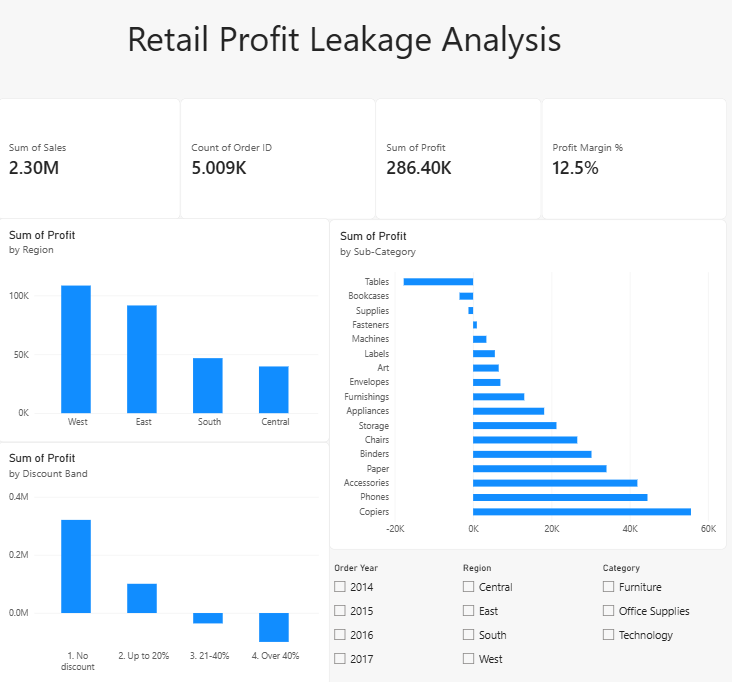

What the dashboard file says about the page in this screenshot:
{"tool":"powerbi","page":{"name":"Page 1","canvas":[1920,1080],"ordinal":0},"visuals":[{"type":"cardVisual","fields":{"Data":["Sum(Sample - Superstore.Sales)"]},"box":[0,158,286,190],"z":0},{"type":"cardVisual","fields":{"Data":["Sum(Sample - Superstore.Profit)"]},"box":[592,158,260,190],"z":1},{"type":"cardVisual","fields":{"Data":["Sample - Superstore.Profit Margin %"]},"box":[852,158,290,190],"z":2},{"type":"cardVisual","fields":{"Data":["Count(Sample - Superstore.Order ID)1"]},"box":[286,158,306,190],"z":3},{"type":"clusteredBarChart","fields":{"Category":["Sample - Superstore.Sub-Category"],"Y":["Sum(Sample - Superstore.Profit)"]},"box":[519.6,349,623.5,517.6],"z":4},{"type":"clusteredColumnChart","fields":{"Category":["Sample - Superstore.Discount Band"],"Y":["Sum(Sample - Superstore.Profit)"]},"box":[0,698,520,382],"z":5},{"type":"clusteredColumnChart","fields":{"Category":["Sample - Superstore.Region"],"Y":["Sum(Sample - Superstore.Profit)"]},"box":[0,347.1,519.6,351],"z":6},{"type":"slicer","fields":{"Values":["Sample - Superstore.Order Year"]},"box":[520,886,164,194],"z":7},{"type":"slicer","fields":{"Values":["Sample - Superstore.Region"]},"box":[722,886,168,194],"z":8},{"type":"slicer","fields":{"Values":["Sample - Superstore.Category"]},"box":[942,886,164,194],"z":9},{"type":"textbox","box":[202,28,714,106],"z":10}]}

Visuals, with their boxes on the page's 1920x1080 design canvas (x1, y1, x2, y2). These are canvas units, not pixel positions in the 732x682 screenshot, which may show the page scaled, cropped or inside an application window:
cardVisual - Sum(Sample - Superstore.Sales): [x1=0, y1=158, x2=286, y2=348]
cardVisual - Sum(Sample - Superstore.Profit): [x1=592, y1=158, x2=852, y2=348]
cardVisual - Sample - Superstore.Profit Margin %: [x1=852, y1=158, x2=1142, y2=348]
cardVisual - Count(Sample - Superstore.Order ID)1: [x1=286, y1=158, x2=592, y2=348]
clusteredBarChart - Sample - Superstore.Sub-Category x Sum(Sample - Superstore.Profit): [x1=520, y1=349, x2=1143, y2=867]
clusteredColumnChart - Sample - Superstore.Discount Band x Sum(Sample - Superstore.Profit): [x1=0, y1=698, x2=520, y2=1080]
clusteredColumnChart - Sample - Superstore.Region x Sum(Sample - Superstore.Profit): [x1=0, y1=347, x2=520, y2=698]
slicer - Sample - Superstore.Order Year: [x1=520, y1=886, x2=684, y2=1080]
slicer - Sample - Superstore.Region: [x1=722, y1=886, x2=890, y2=1080]
slicer - Sample - Superstore.Category: [x1=942, y1=886, x2=1106, y2=1080]
textbox: [x1=202, y1=28, x2=916, y2=134]
